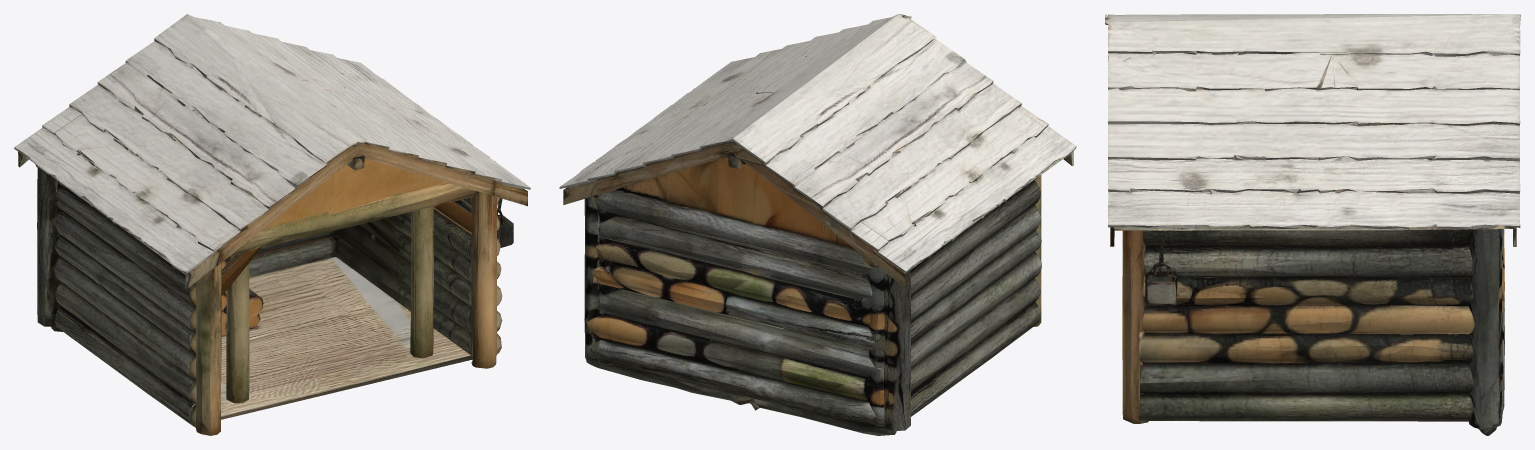
File: storage_hut.glb
The picture shows the model from 3 angles, left to right: view 1: azimuth 30°, elevation 25°; view 2: azimuth 150°, elevation 25°; view 3: azimuth 270°, elevation 25°; orthographic projection. The views are drawn at different scales.
Bounding box in the file's own units: 1.74 × 1.32 × 1.49.
Materials: 1 (1 with a texture image).
